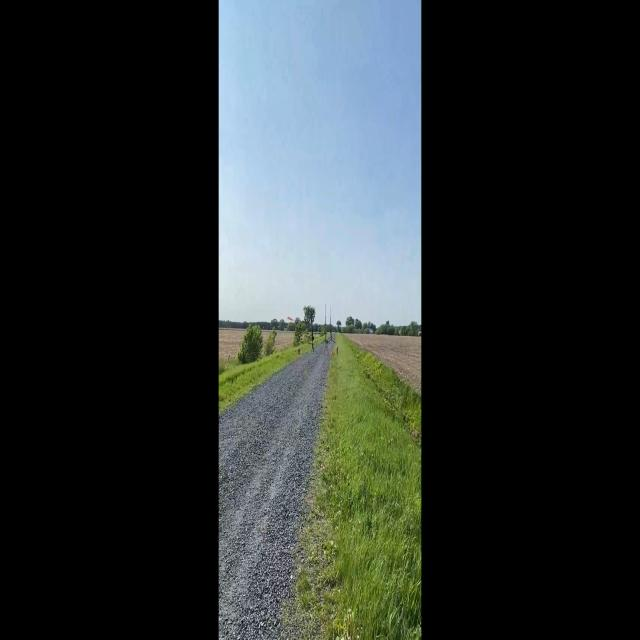Rocket: (311, 316, 314, 341)
